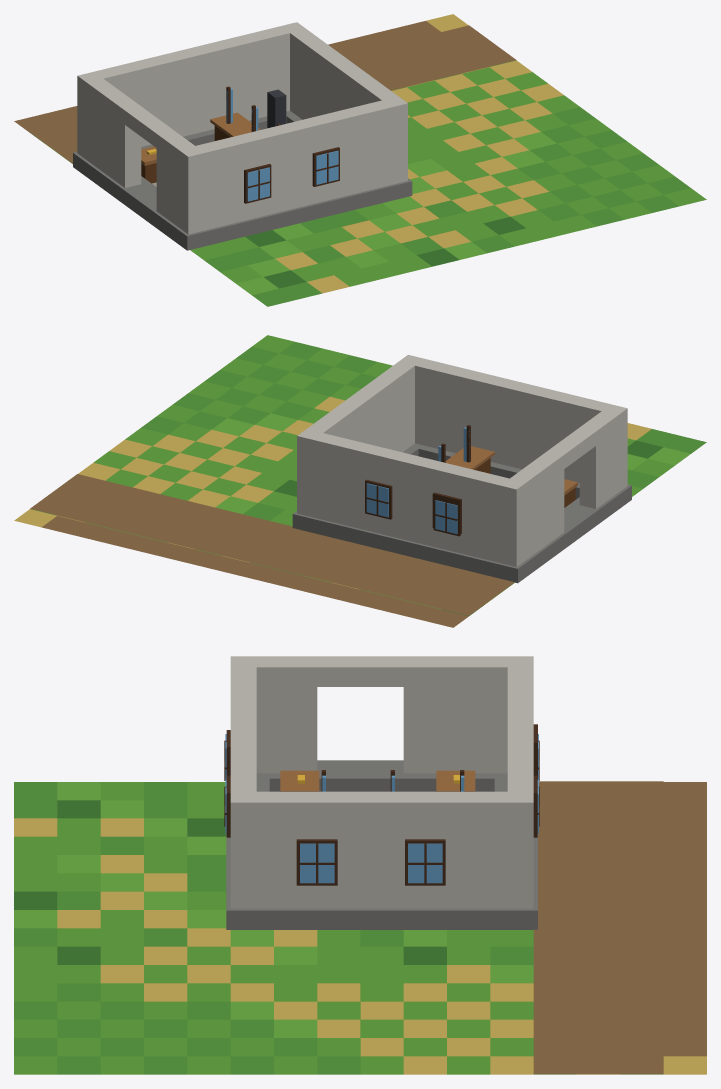
File: chunk_7_11.glb
3 views of the same model, one above another, from view 1: azimuth 30°, elevation 25°; view 2: azimuth 150°, elevation 25°; view 3: azimuth 270°, elevation 25° (orthographic). The views are drawn at different scales.
Visible parts, largest first — view 1: chunk_7_11; view 2: chunk_7_11; view 3: chunk_7_11.
Part boxes in pixels (<box>): chunk_7_11: <box>14,14,706,306</box>; chunk_7_11: <box>14,335,706,627</box>; chunk_7_11: <box>14,656,706,1074</box>.
Size of the model in its own units: 16.1 by 3.2 by 16.
